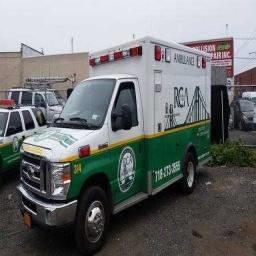Ambulance: (18, 37, 210, 253)
